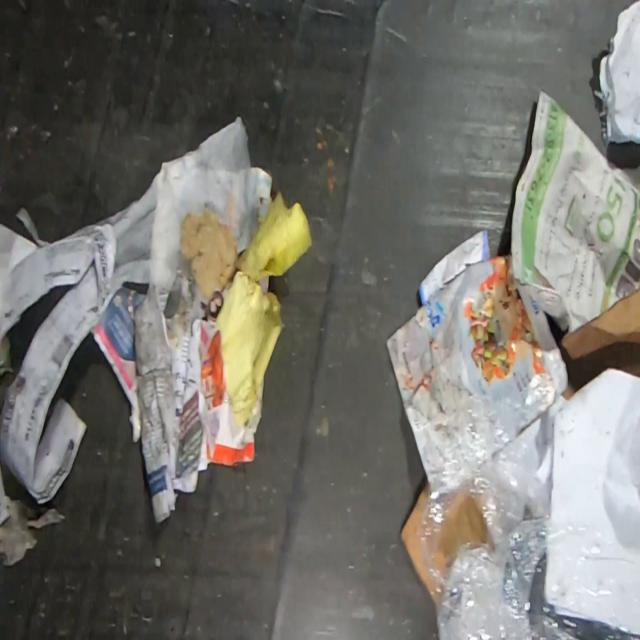cardboard: (562, 289, 640, 401), (400, 492, 434, 602)
soft_plastic: (415, 392, 639, 639)
